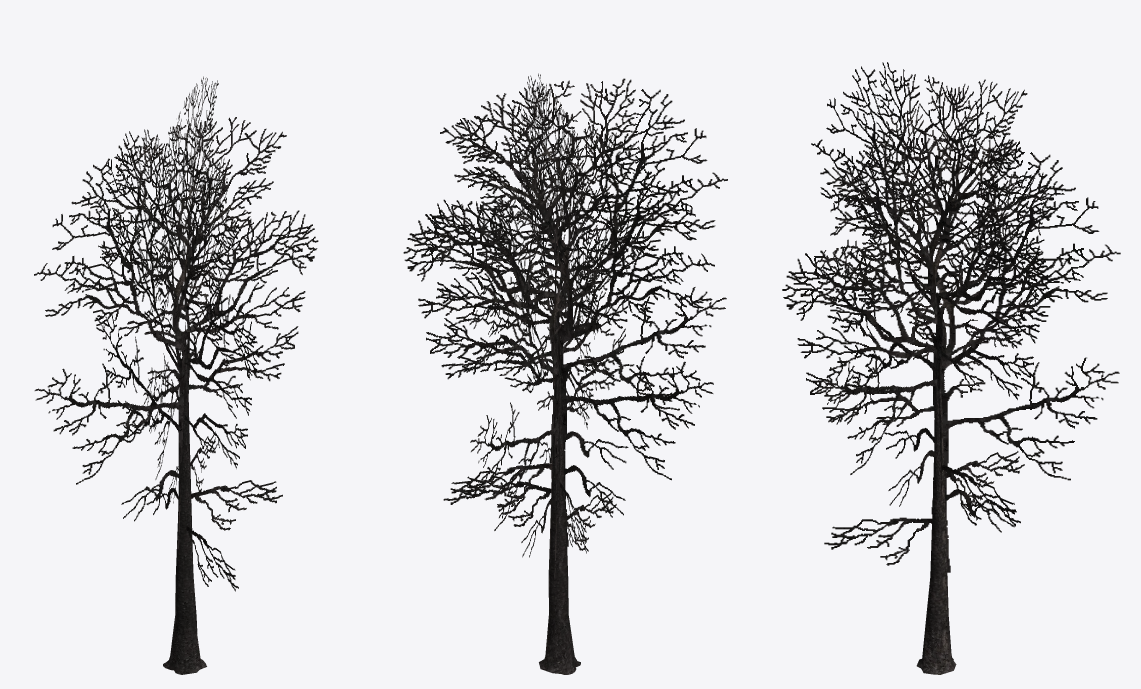
File: dead_tree_rt_2.glb
The picture shows the model from 3 angles, left to right: view 1: azimuth 30°, elevation 25°; view 2: azimuth 150°, elevation 25°; view 3: azimuth 270°, elevation 25°; orthographic projection. The views are drawn at different scales.
Visible parts, largest first — view 1: dead_tree_rt_2; view 2: dead_tree_rt_2; view 3: dead_tree_rt_2.
Boxes of the visible parts, x1,y1,x2,y2 form: dead_tree_rt_2: [34, 76, 318, 674]; dead_tree_rt_2: [403, 73, 727, 674]; dead_tree_rt_2: [782, 62, 1120, 674].
Bounding box in the file's own units: 1.75 × 3.16 × 1.75.
Materials: 2 (2 with a texture image).
